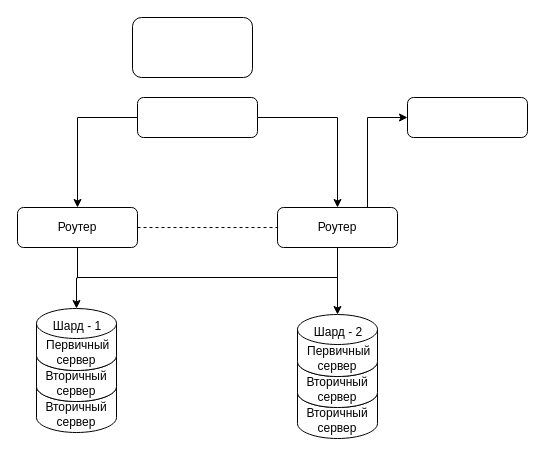
The diagram is 545 pixels wide and 456 high, and some of its shapes have lost their labels. The shapes that lost their labels are listed below. From the top down, each one's box as (x1, y1, x2, y2) in pixels, then its label:
(132, 16, 252, 78): pymongo-api
(136, 96, 258, 138): Драйвер
(406, 96, 528, 138): Конфигурационный сервер
